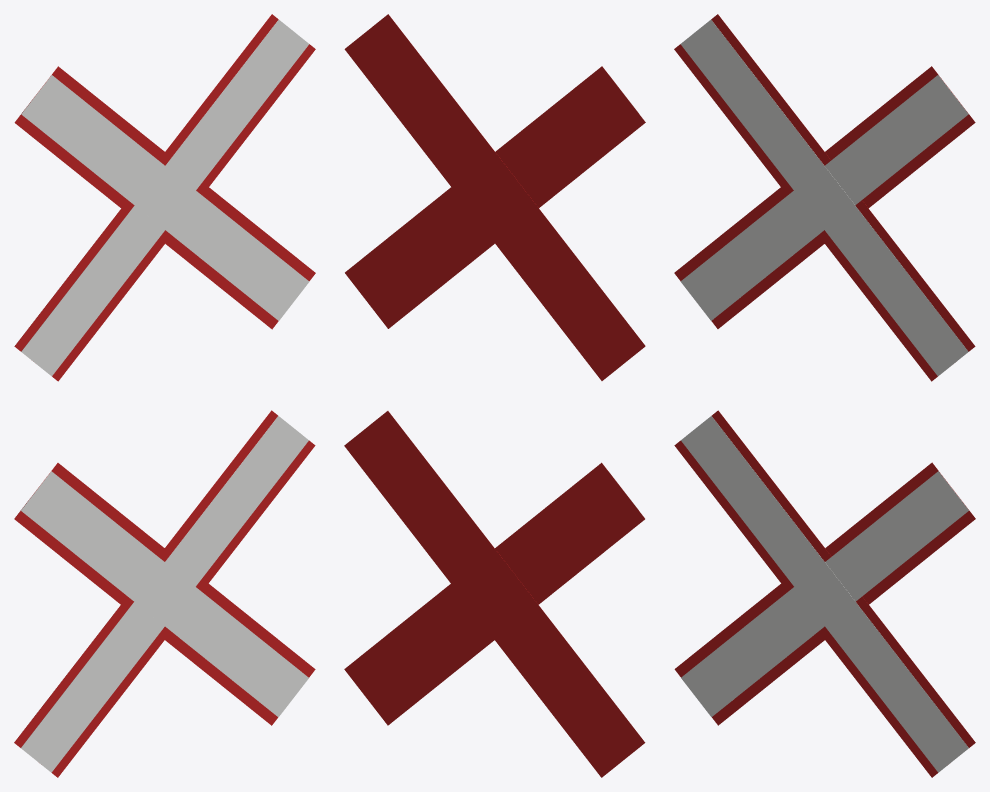
The picture shows the model from 3 angles, left to right: view 1: azimuth 30°, elevation 25°; view 2: azimuth 150°, elevation 25°; view 3: azimuth 330°, elevation 25°; orthographic projection.
Parts seen in each view (by area): view 1: G1c_bras07, G1c_bras03, G1c_bras02, G1c_bras06, G1c_bras05, G1c_bras01, G1c_bras04, G1c_bras00; view 2: G1c_bras00, G1c_bras04, G1c_bras05, G1c_bras01; view 3: G1c_bras07, G1c_bras03, G1c_bras06, G1c_bras02, G1c_bras05, G1c_bras01, G1c_bras00, G1c_bras04.
Part boxes in pixels (x1,y1,x2,y2): G1c_bras07: [21, 75, 309, 320]; G1c_bras03: [21, 471, 308, 717]; G1c_bras02: [21, 416, 308, 772]; G1c_bras06: [21, 19, 309, 376]; G1c_bras05: [14, 66, 315, 329]; G1c_bras01: [14, 463, 315, 725]; G1c_bras04: [14, 14, 315, 381]; G1c_bras00: [14, 410, 315, 777]; G1c_bras00: [344, 411, 645, 777]; G1c_bras04: [344, 14, 645, 380]; G1c_bras05: [345, 66, 645, 328]; G1c_bras01: [344, 462, 644, 725]; G1c_bras07: [680, 19, 968, 376]; G1c_bras03: [681, 416, 968, 772]; G1c_bras06: [680, 75, 968, 320]; G1c_bras02: [681, 471, 968, 716]; G1c_bras05: [674, 14, 975, 381]; G1c_bras01: [674, 410, 975, 777]; G1c_bras00: [674, 462, 975, 725]; G1c_bras04: [674, 66, 975, 328].
Bounding box in the file's own units: 0.7744 × 1.75 × 0.0032.
